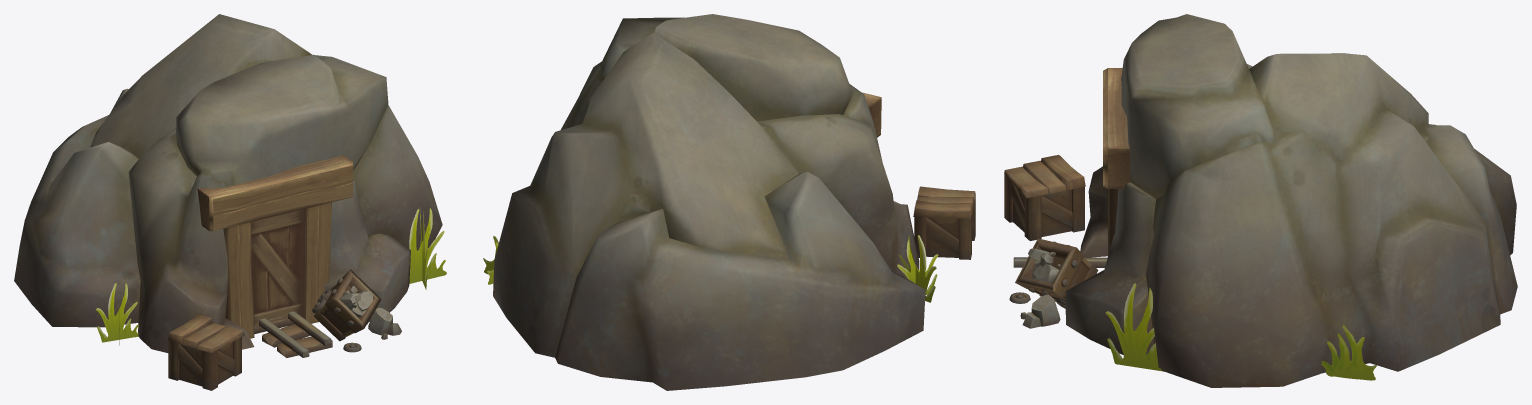
Rendered from stone_mine.FBX.
The picture shows the model from 3 angles, left to right: view 1: azimuth 30°, elevation 25°; view 2: azimuth 150°, elevation 25°; view 3: azimuth 270°, elevation 25°; orthographic projection. The views are drawn at different scales.
Parts seen in each view (by area): view 1: stonemine; view 2: stonemine; view 3: stonemine.
Part boxes in pixels (left/top/right/bottom): stonemine: left=14, top=14, right=446, bottom=390; stonemine: left=483, top=14, right=975, bottom=390; stonemine: left=1004, top=14, right=1517, bottom=387.
Bounding box in the file's own units: 1244 × 753 × 1312.
